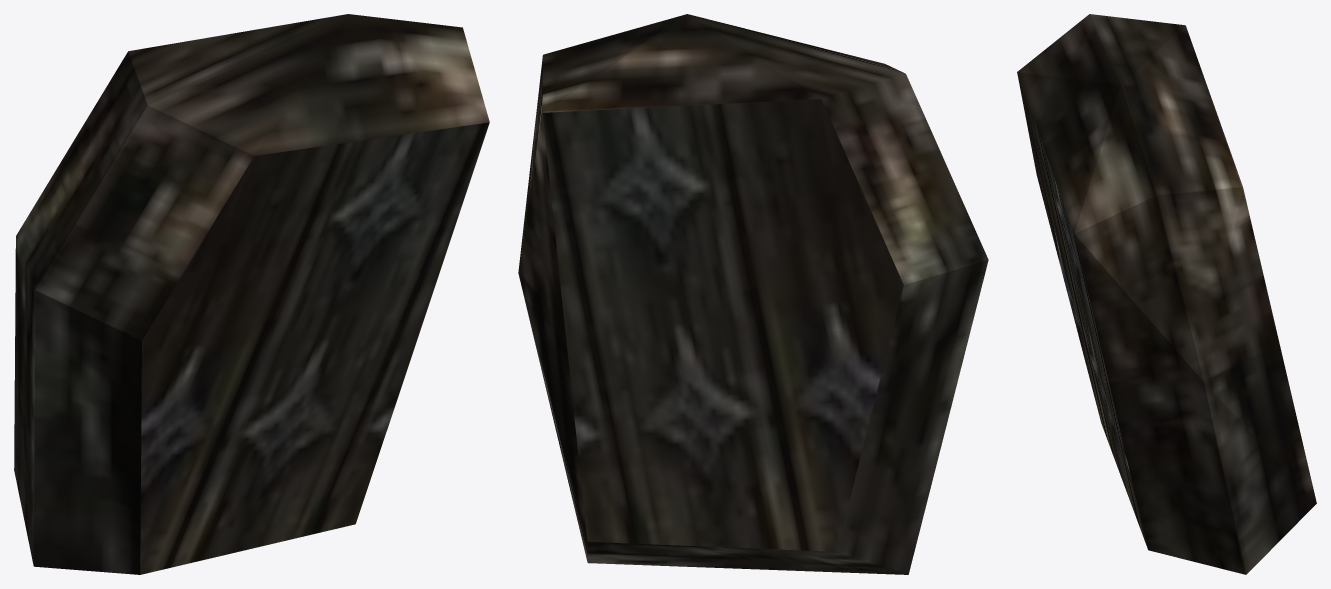
Rendered from sojghmj03.glb.
3 views of the same model, side by side, from view 1: azimuth 30°, elevation 25°; view 2: azimuth 150°, elevation 25°; view 3: azimuth 270°, elevation 25° (orthographic). The views are drawn at different scales.
Parts seen in each view (by area): view 1: model_sojghmj03; view 2: model_sojghmj03; view 3: model_sojghmj03.
Boxes of the visible parts, x1,y1,x2,y2 form: model_sojghmj03: [14, 14, 489, 574]; model_sojghmj03: [518, 14, 988, 574]; model_sojghmj03: [1017, 14, 1316, 574].
Size of the model in its own units: 0.7614 by 0.8798 by 0.5031.
Materials: 1 (1 with a texture image).
